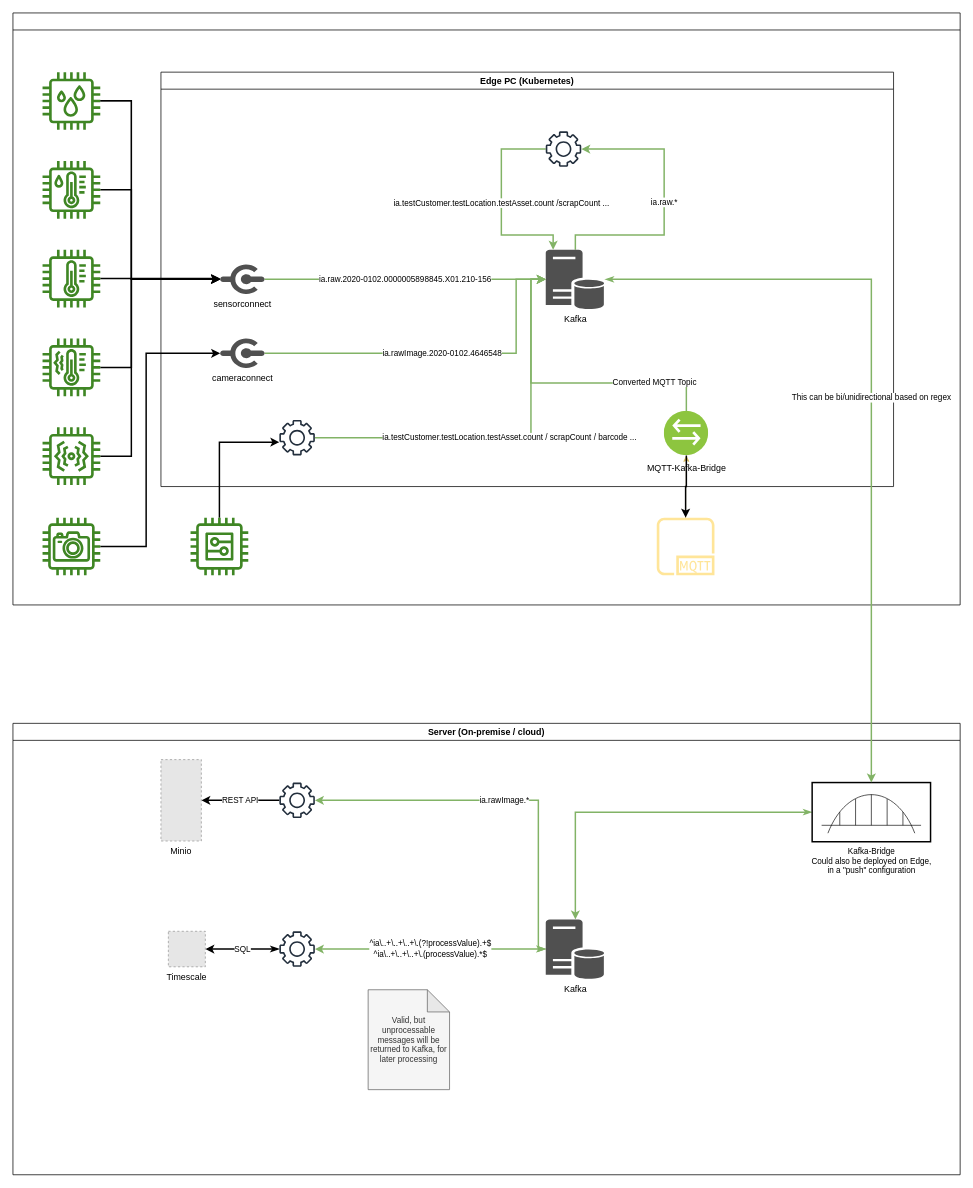
This 973x1188 diagram has some shape labels left out. Grey dashed boxes stand in for pictures. Each missing label, with the box of its shape:
Kafka-to-blob: (279, 782, 314, 818)
Kafka-to-postgresql: (279, 931, 314, 966)
Machine: (12, 12, 960, 605)
Node-Red: (545, 131, 581, 166)
Node-Red, Barcode reader, ...: (279, 420, 314, 455)
